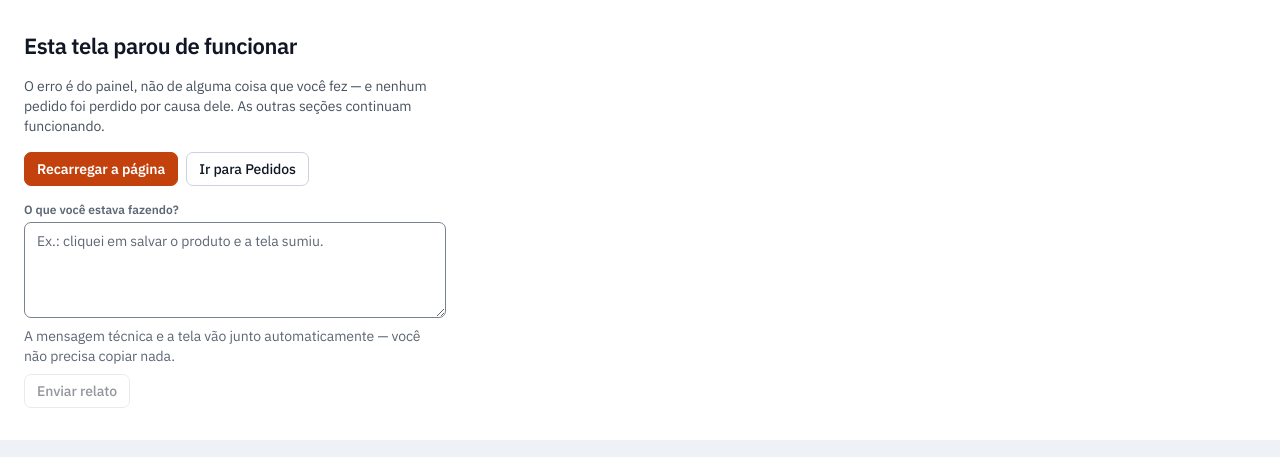
Test: ErroDaTela · o relato › trava o envio enquanto a história não foi escrita
This screenshot has width=1280, height=457.
Expected: the button with test id "erro-enviar" is disabled, [24,374,130,408]
Step 1. Type "a" into the text box with test id "erro-descricao" → coordinates (235, 270), box [24,222,446,318]
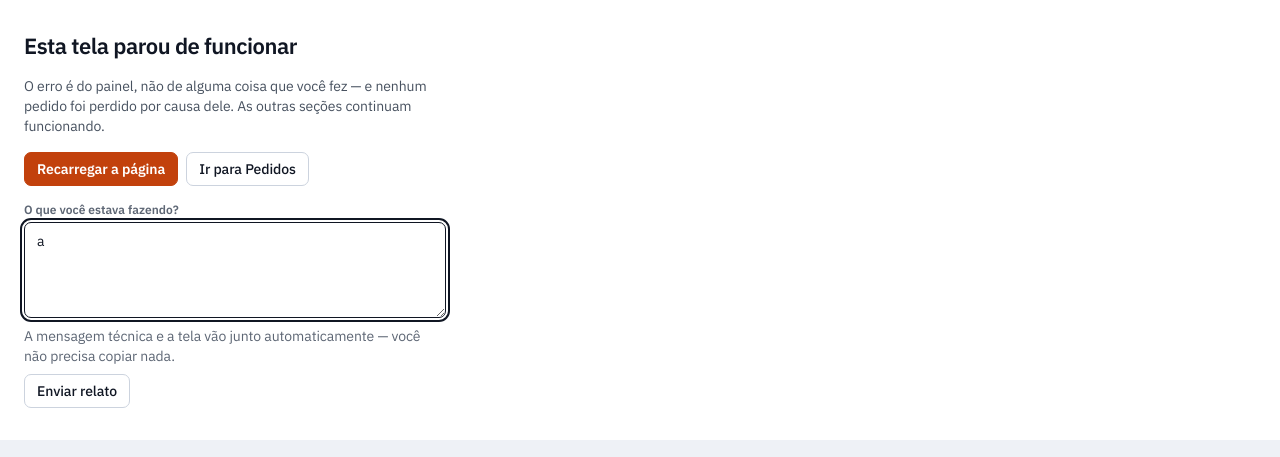
Expected: the button with test id "erro-enviar" is enabled, [24,374,130,408]
